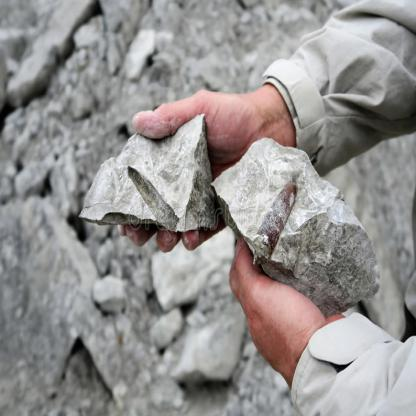Sedimentary_Chalk: (234, 158, 358, 269), (122, 140, 207, 246)
